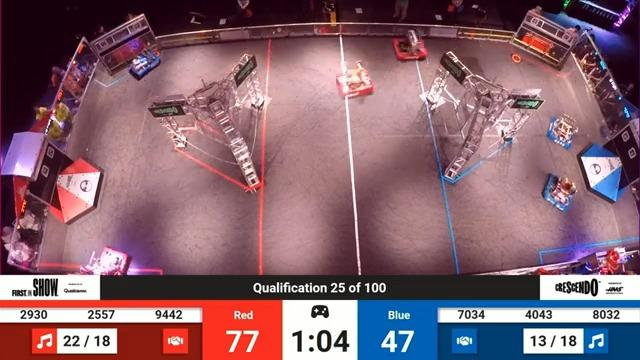robot: (332, 54, 377, 104), (539, 166, 582, 213), (544, 111, 582, 150), (84, 246, 128, 276), (393, 31, 428, 64), (124, 50, 160, 79)
